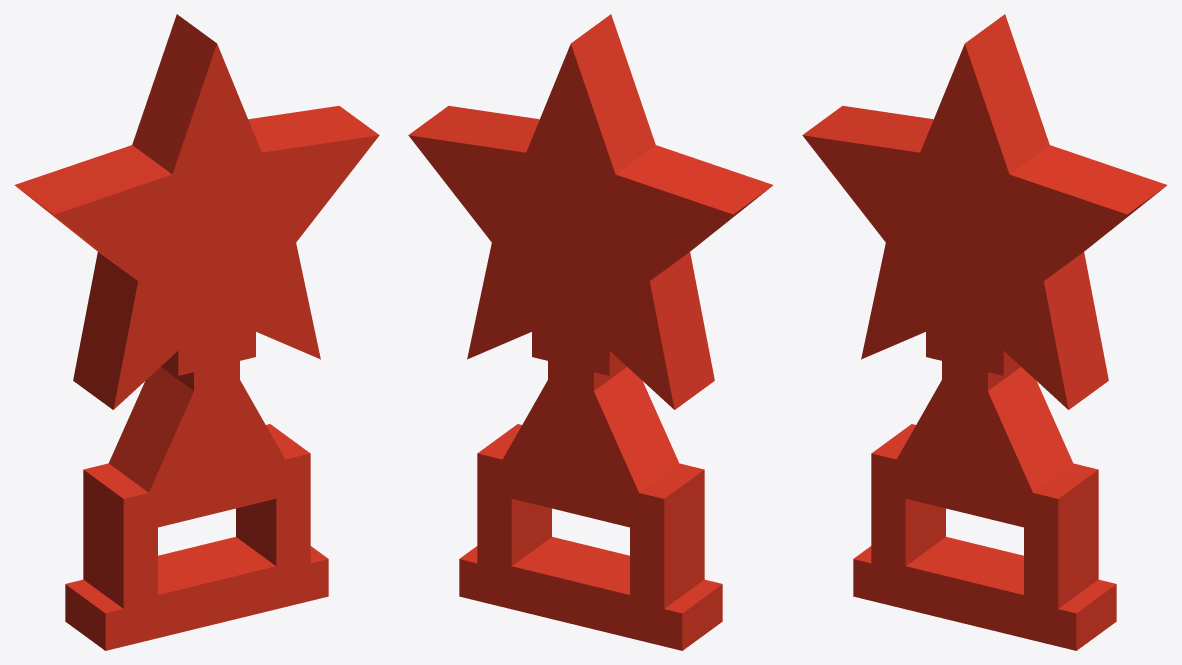
Rendered from Icon_ChampionCup_03.fbx.
The picture shows the model from 3 angles, left to right: view 1: azimuth 30°, elevation 25°; view 2: azimuth 150°, elevation 25°; view 3: azimuth 330°, elevation 25°; orthographic projection.
Visible parts, largest first — view 1: Icon_ChampionCup_03; view 2: Icon_ChampionCup_03; view 3: Icon_ChampionCup_03.
Part boxes in pixels (bbox=[...]): Icon_ChampionCup_03: bbox=[14, 14, 379, 650]; Icon_ChampionCup_03: bbox=[408, 14, 773, 650]; Icon_ChampionCup_03: bbox=[802, 14, 1167, 650].
Bounding box in the file's own units: 46.8 × 79.82 × 10.05.
